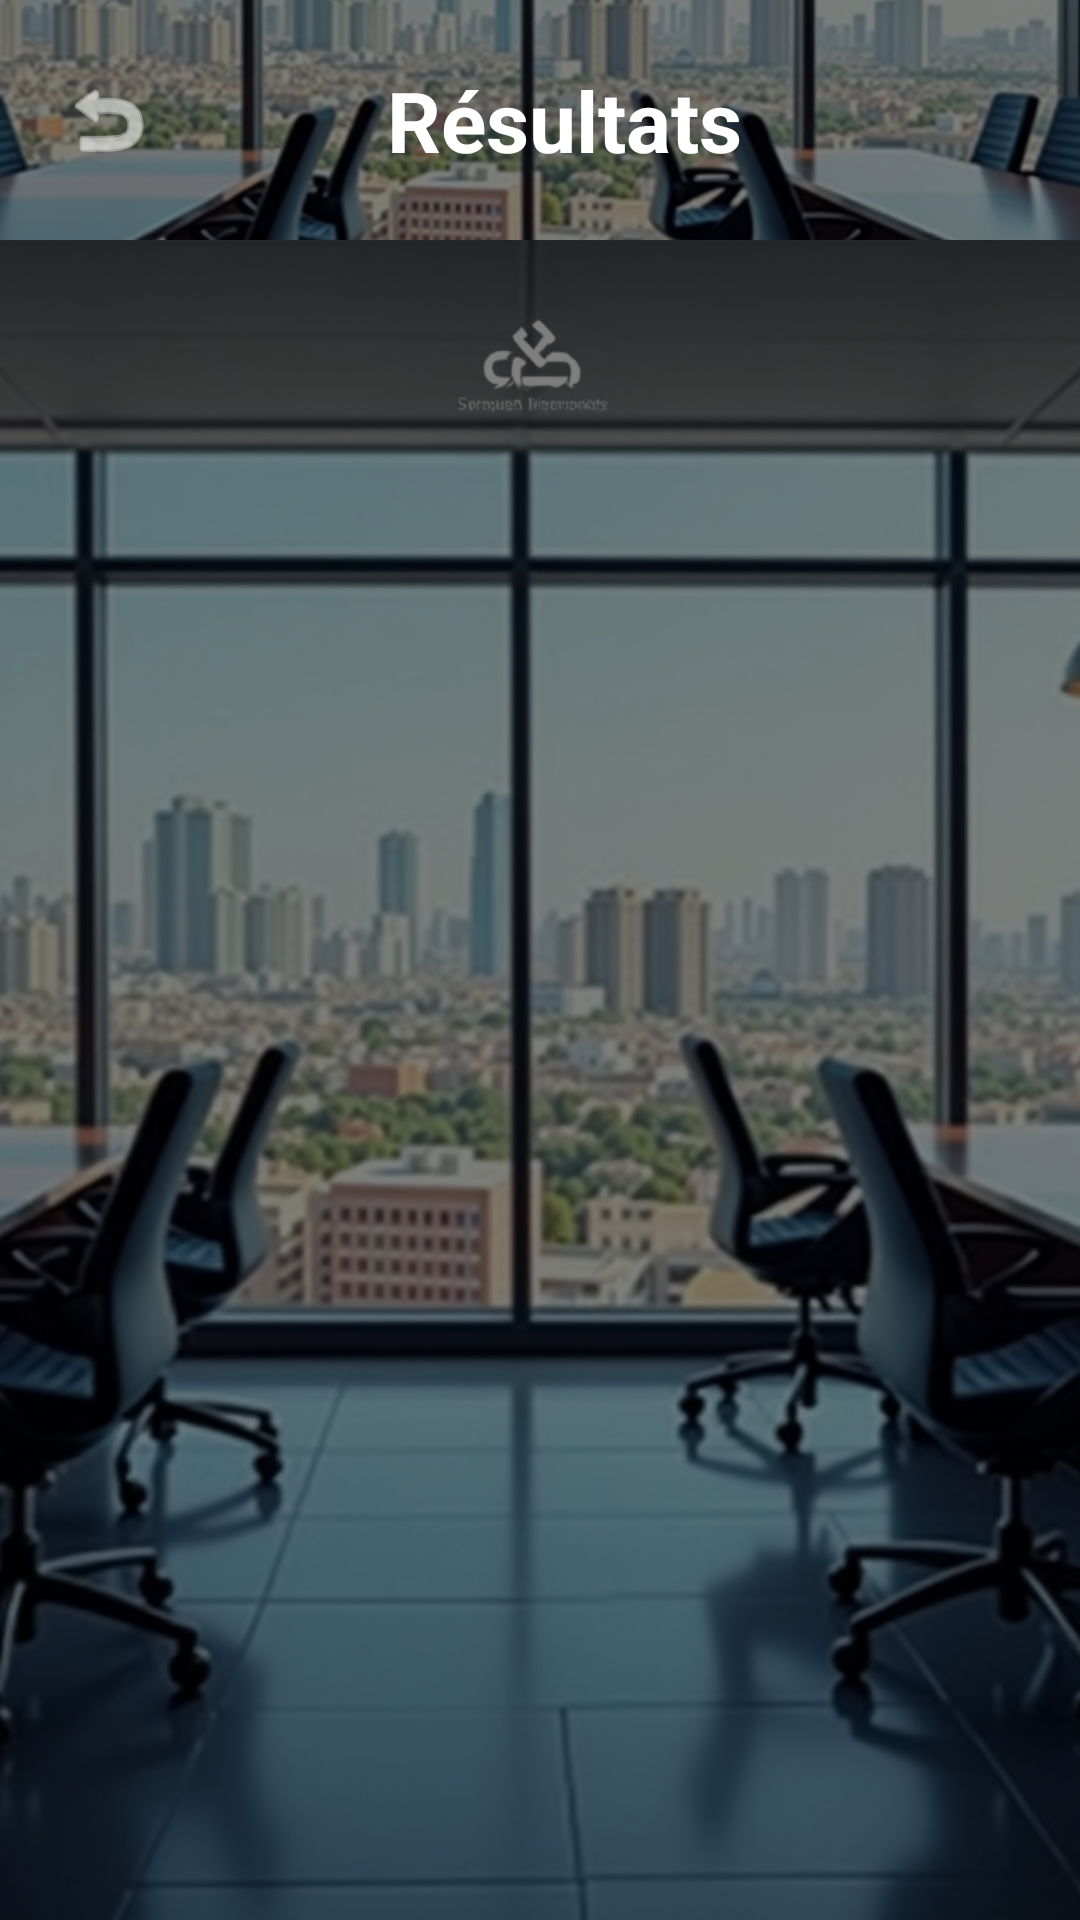

Named icons in this screenshot (1080px×1920px) and their bounding boxes, (left=x1, top=y1, right=x2, bottom=y2):
Retour: (left=48, top=60, right=168, bottom=165)
